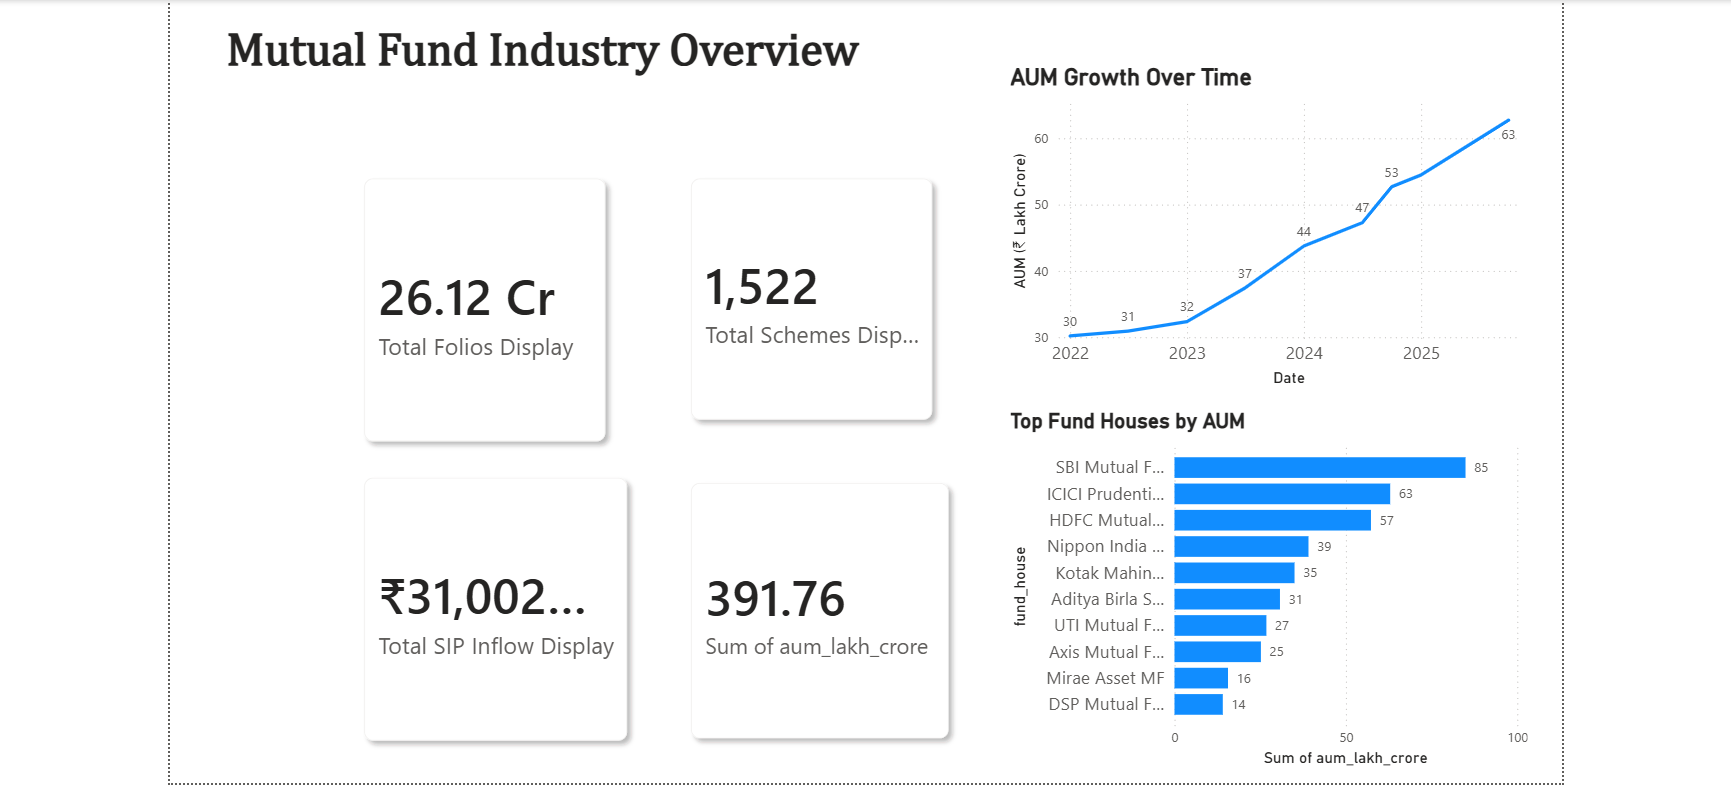

The page's visual inventory and layout, read from the dashboard file:
{"tool":"powerbi","page":{"name":"Industry Overview","canvas":[1280,720],"ordinal":0},"visuals":[{"type":"cardVisual","fields":{"Data":["Measures (2).Total Schemes Display"]},"box":[450,135.7,280,280],"z":0},{"type":"cardVisual","fields":{"Data":["Measures (2).Total SIP Inflow"]},"box":[150,410,300,300],"z":1000},{"type":"cardVisual","fields":{"Data":["Sum(03_aum_by_fund_house_clean.aum_lakh_crore)"]},"box":[450,415.6,295.3,293.8],"z":2000},{"type":"cardVisual","fields":{"Data":["Measures (2).Total Folios Display"]},"box":[150,135,280,300],"z":3000},{"type":"lineChart","title":"AUM Growth Over Time","fields":{"Y":["Sum(03_aum_by_fund_house_clean.aum_lakh_crore)"],"Category":["03_aum_by_fund_house_clean.date.Variation.Date Hierarchy.Year","03_aum_by_fund_house_clean.date.Variation.Date Hierarchy.Quarter","03_aum_by_fund_house_clean.date.Variation.Date Hierarchy.Month","03_aum_by_fund_house_clean.date.Variation.Date Hierarchy.Day"]},"box":[767.2,57.8,485.9,301.6],"z":4000},{"type":"clusteredBarChart","title":"Top Fund Houses by AUM","fields":{"Y":["Sum(03_aum_by_fund_house_clean.aum_lakh_crore)"],"Category":["03_aum_by_fund_house_clean.fund_house"]},"box":[767.2,375,485.9,334.4],"z":5000},{"type":"textbox","box":[46.7,16.7,631.7,73.3],"z":6000}]}

Visuals, with their boxes on the page's 1280x720 design canvas (x1, y1, x2, y2). These are canvas units, not pixel positions in the 1731x787 screenshot, which may show the page scaled, cropped or inside an application window:
cardVisual - Measures (2).Total Schemes Display: pyautogui.locateOnScreen(450, 136, 730, 416)
cardVisual - Measures (2).Total SIP Inflow: pyautogui.locateOnScreen(150, 410, 450, 710)
cardVisual - Sum(03_aum_by_fund_house_clean.aum_lakh_crore): pyautogui.locateOnScreen(450, 416, 745, 709)
cardVisual - Measures (2).Total Folios Display: pyautogui.locateOnScreen(150, 135, 430, 435)
"AUM Growth Over Time" lineChart: pyautogui.locateOnScreen(767, 58, 1253, 359)
"Top Fund Houses by AUM" clusteredBarChart: pyautogui.locateOnScreen(767, 375, 1253, 709)
textbox: pyautogui.locateOnScreen(47, 17, 678, 90)
